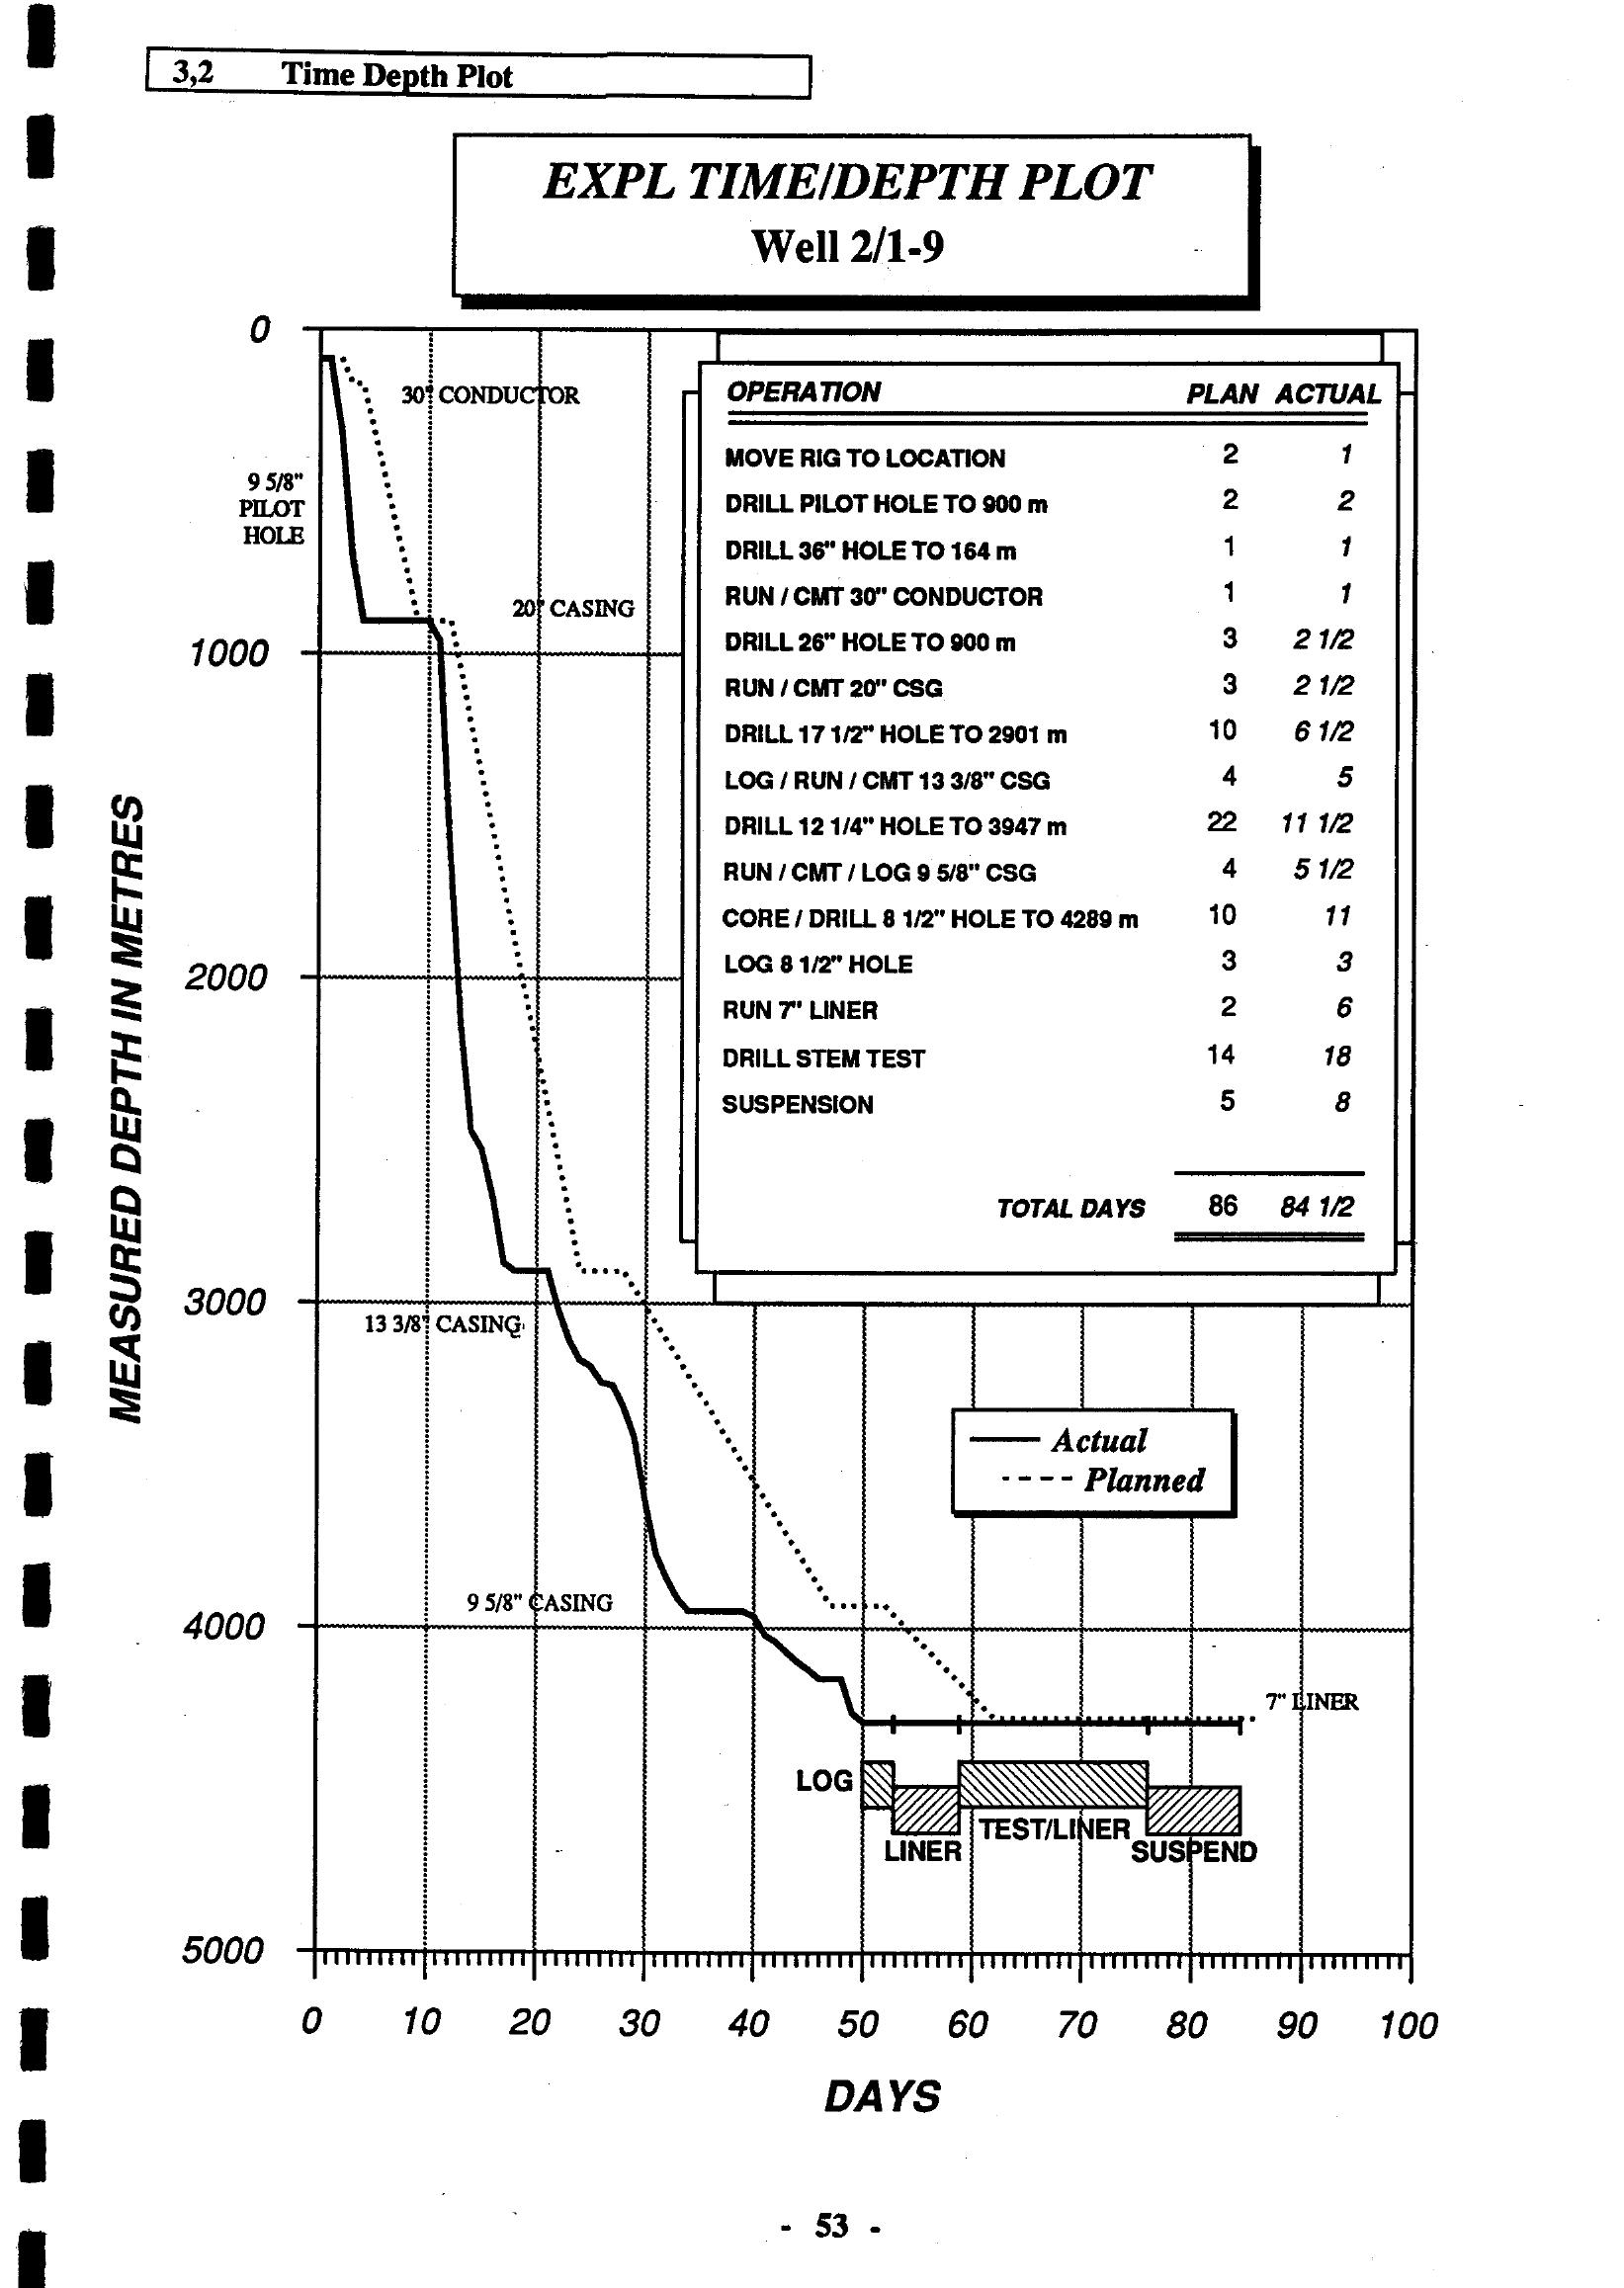graph: (112, 30, 1527, 2140)
